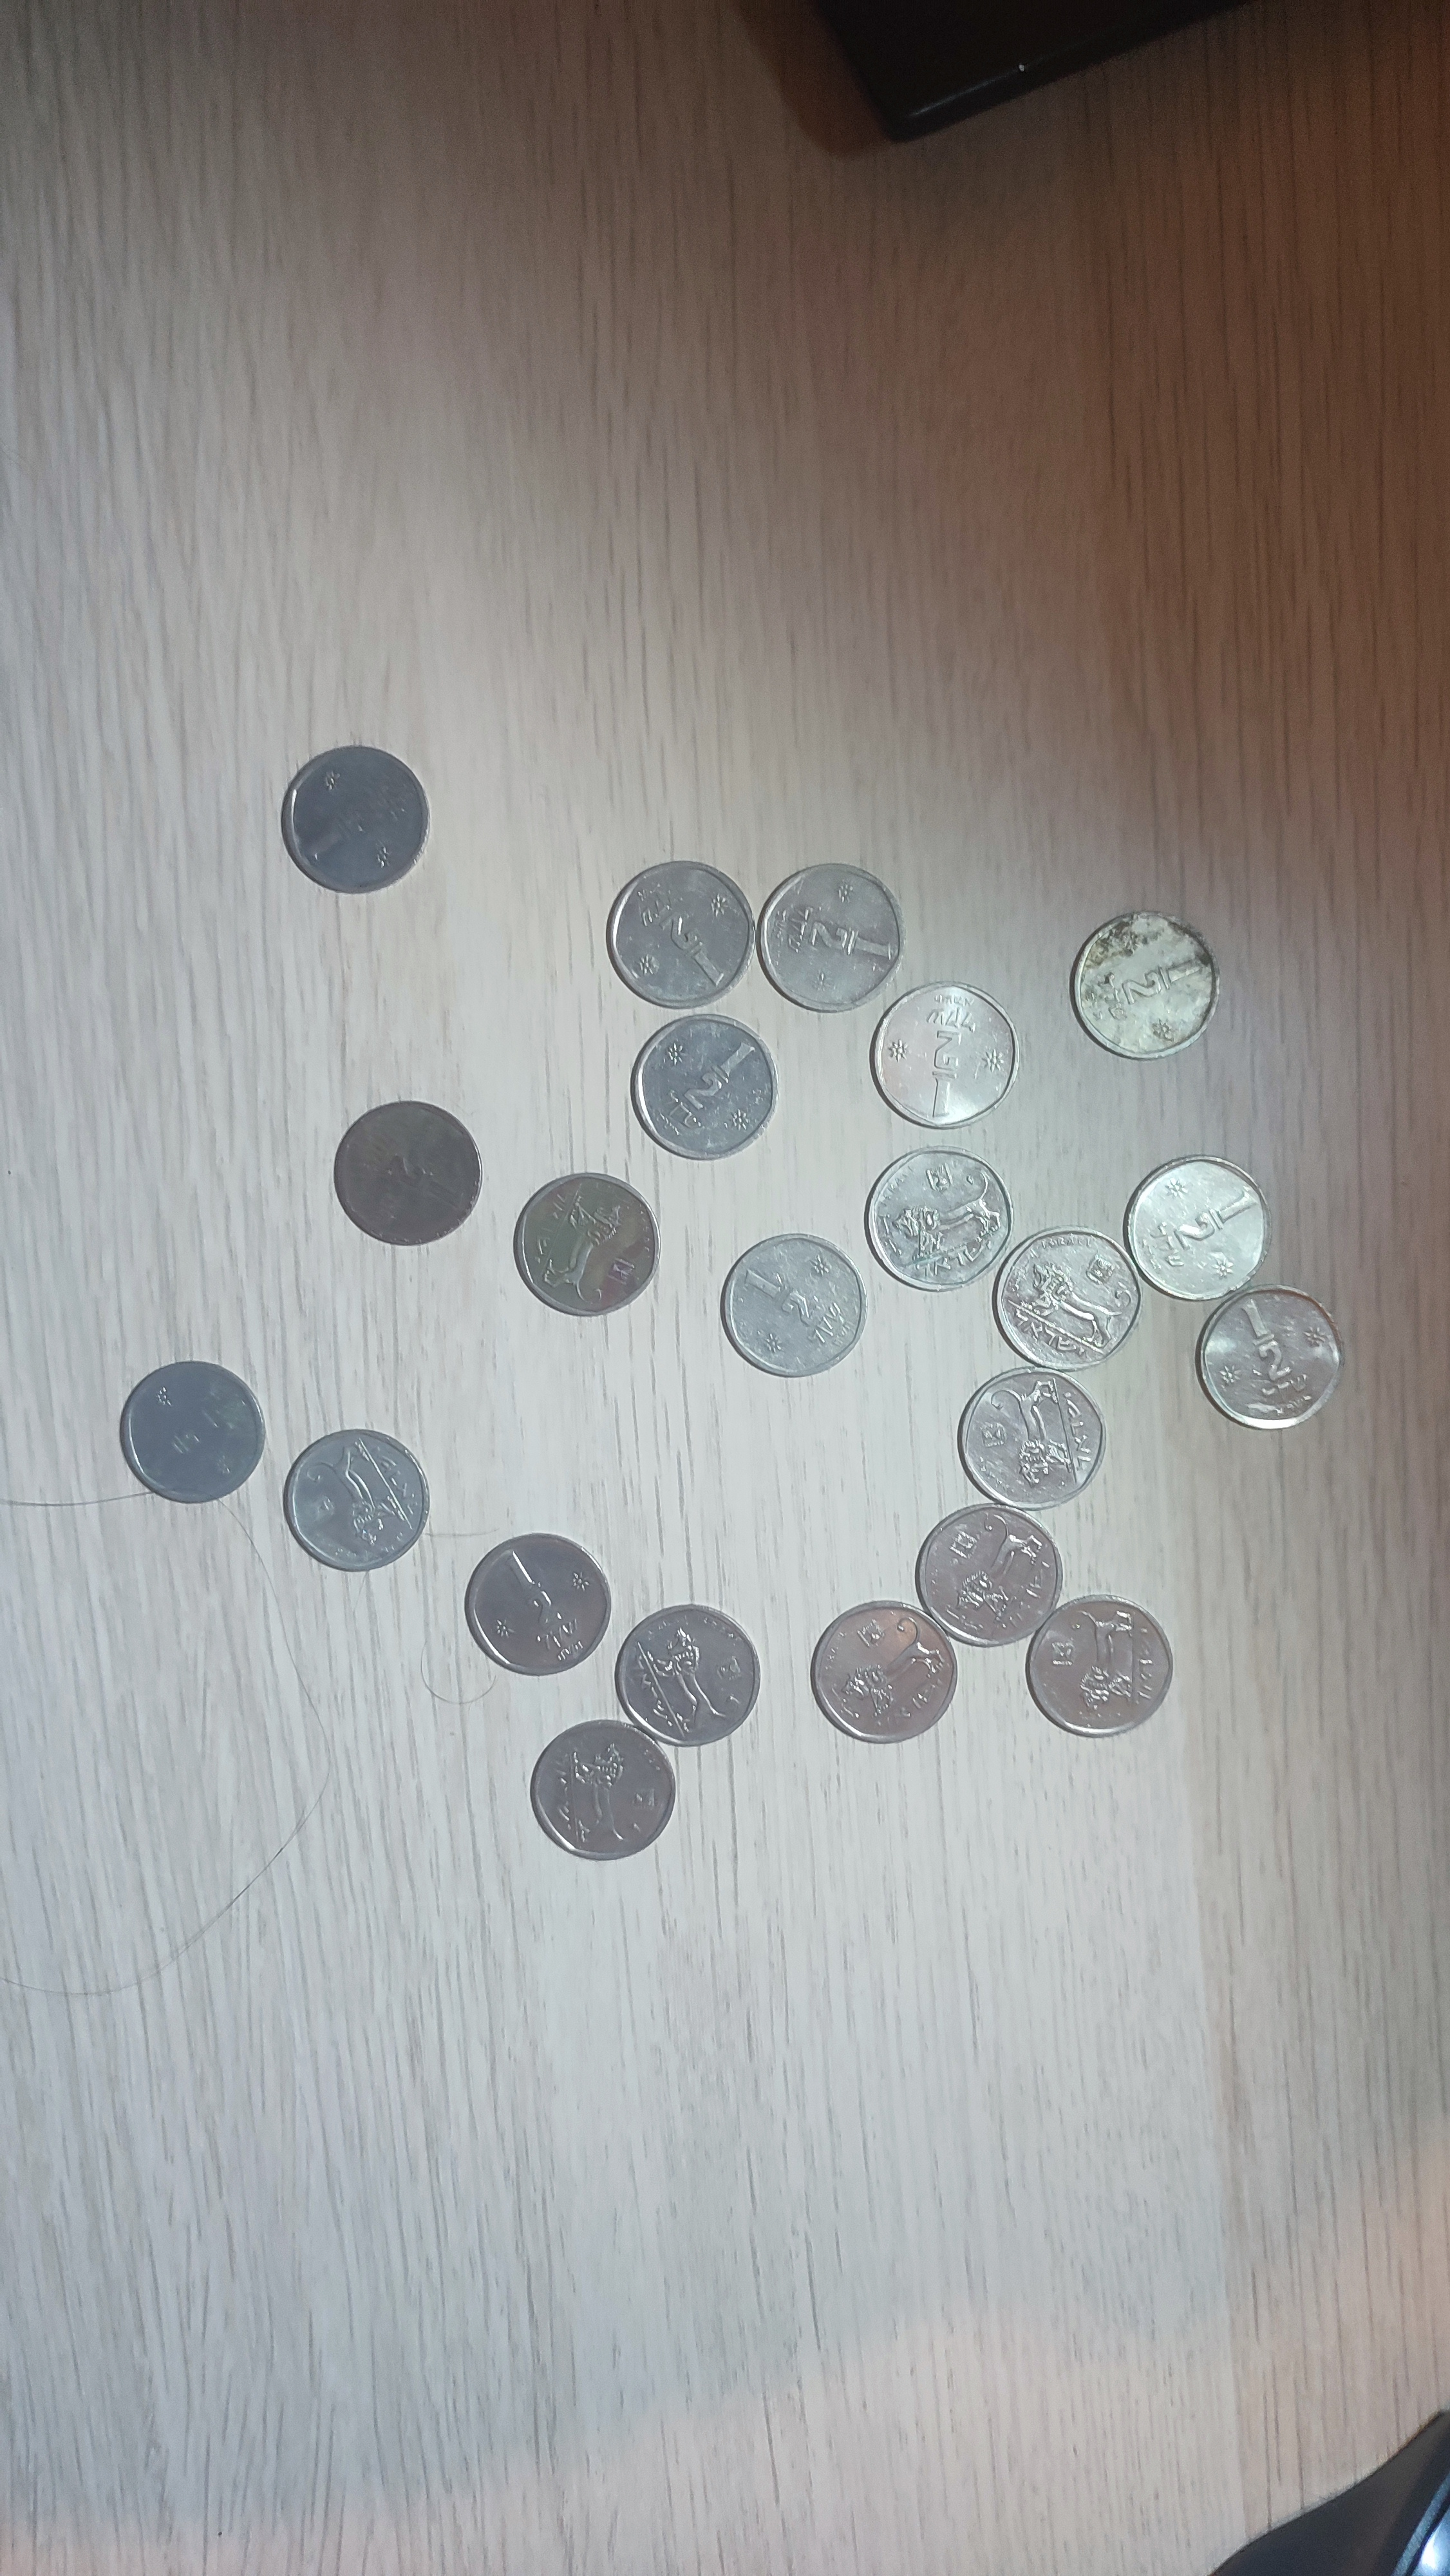1/2 old sheqel: (868, 978, 1024, 1132), (1068, 908, 1222, 1062), (1121, 1152, 1275, 1304), (628, 1014, 783, 1164), (990, 1223, 1146, 1373), (278, 745, 435, 893), (605, 858, 757, 1010), (1194, 1283, 1347, 1433), (331, 1099, 483, 1249), (863, 1143, 1017, 1292), (759, 862, 909, 1012), (718, 1231, 868, 1380), (912, 1502, 1065, 1649), (118, 1359, 271, 1506), (808, 1599, 958, 1746), (463, 1532, 614, 1679), (511, 1171, 663, 1316), (612, 1601, 760, 1748), (957, 1366, 1107, 1511), (1024, 1594, 1174, 1739), (281, 1428, 431, 1573), (529, 1718, 677, 1861)
